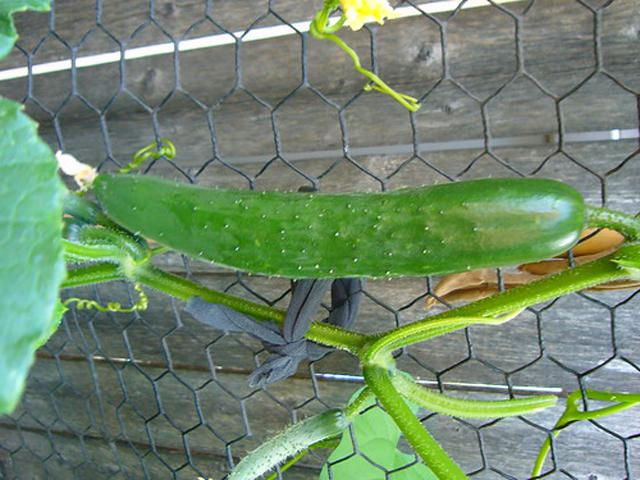cucumber: (95, 172, 585, 280)
